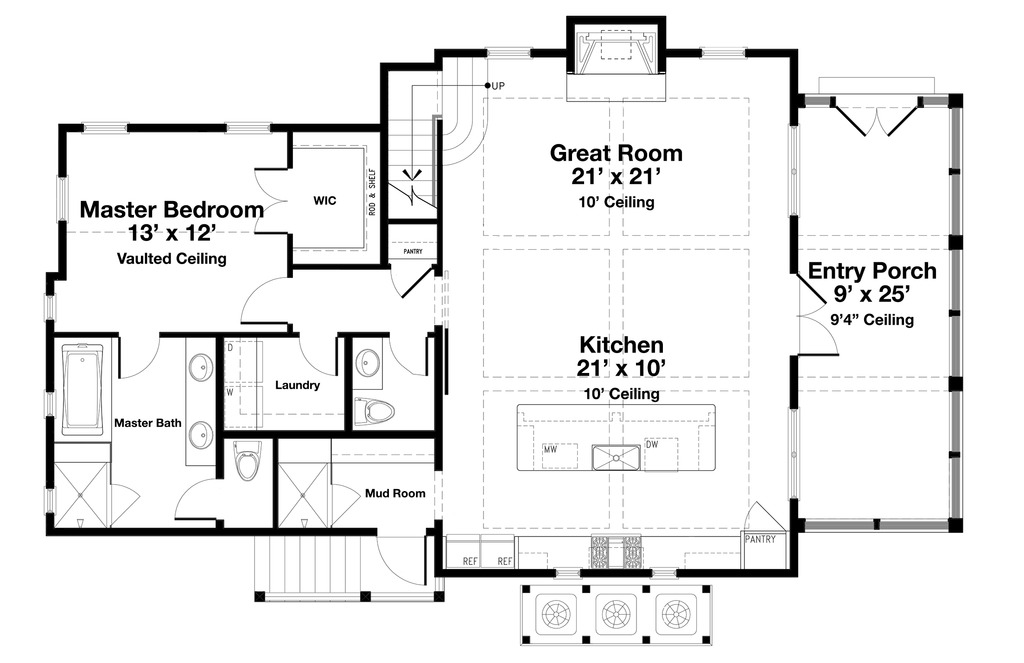door: (793, 272, 841, 365), (835, 94, 919, 135), (236, 274, 289, 329), (251, 165, 291, 236), (170, 478, 220, 521), (293, 330, 339, 375), (117, 334, 158, 382), (382, 261, 429, 298), (329, 482, 361, 524), (113, 482, 143, 523)
large_sink: (248, 535, 365, 602), (351, 392, 400, 426), (229, 440, 266, 484)
small_sink: (182, 335, 220, 467), (353, 337, 384, 391)
stairs: (382, 58, 515, 223), (248, 534, 364, 601)
tub: (54, 337, 114, 441)
windows: (784, 404, 800, 499), (788, 121, 799, 215), (482, 44, 536, 62), (221, 117, 272, 136), (700, 45, 746, 63), (56, 172, 70, 220), (79, 123, 128, 133), (41, 292, 57, 322), (42, 485, 54, 514)
